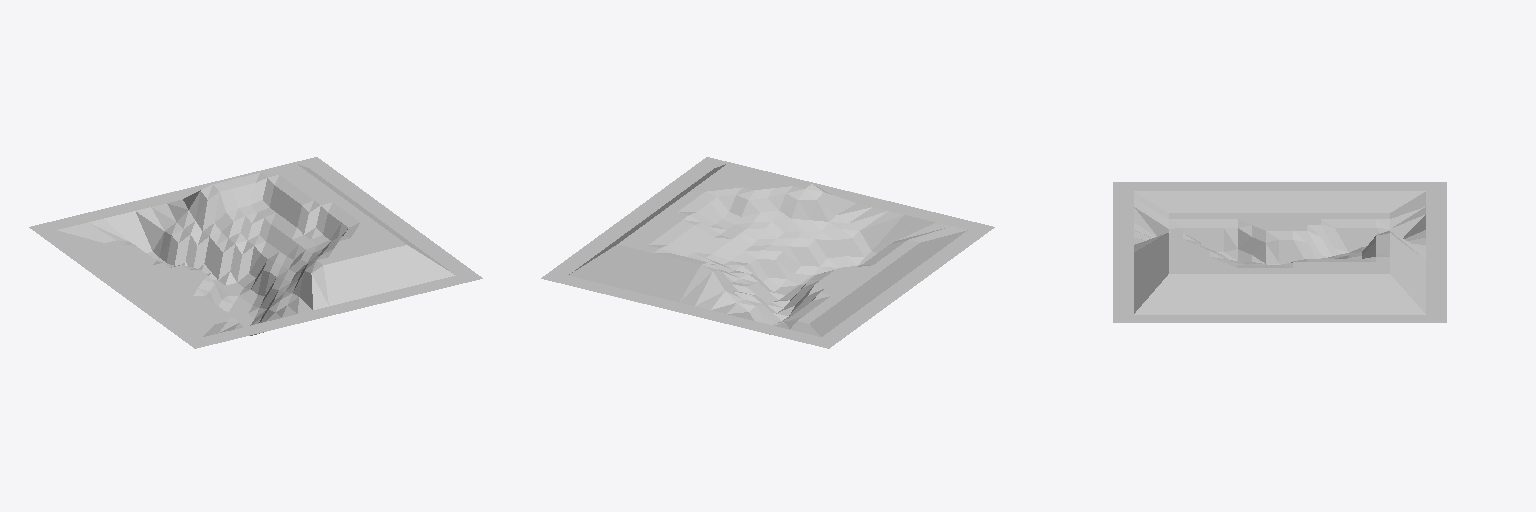
File: dune.obj
3 views of the same model, side by side, from view 1: azimuth 30°, elevation 25°; view 2: azimuth 150°, elevation 25°; view 3: azimuth 270°, elevation 25° (orthographic).
Parts seen in each view (by area): view 1: Plane_Plane.001; view 2: Plane_Plane.001; view 3: Plane_Plane.001.
Part boxes in pixels (x1,y1,x2,y2): Plane_Plane.001: (29, 157, 482, 348); Plane_Plane.001: (541, 157, 994, 348); Plane_Plane.001: (1113, 182, 1446, 322).
Bounding box in the file's own units: 30.08 × 5.69 × 30.08.